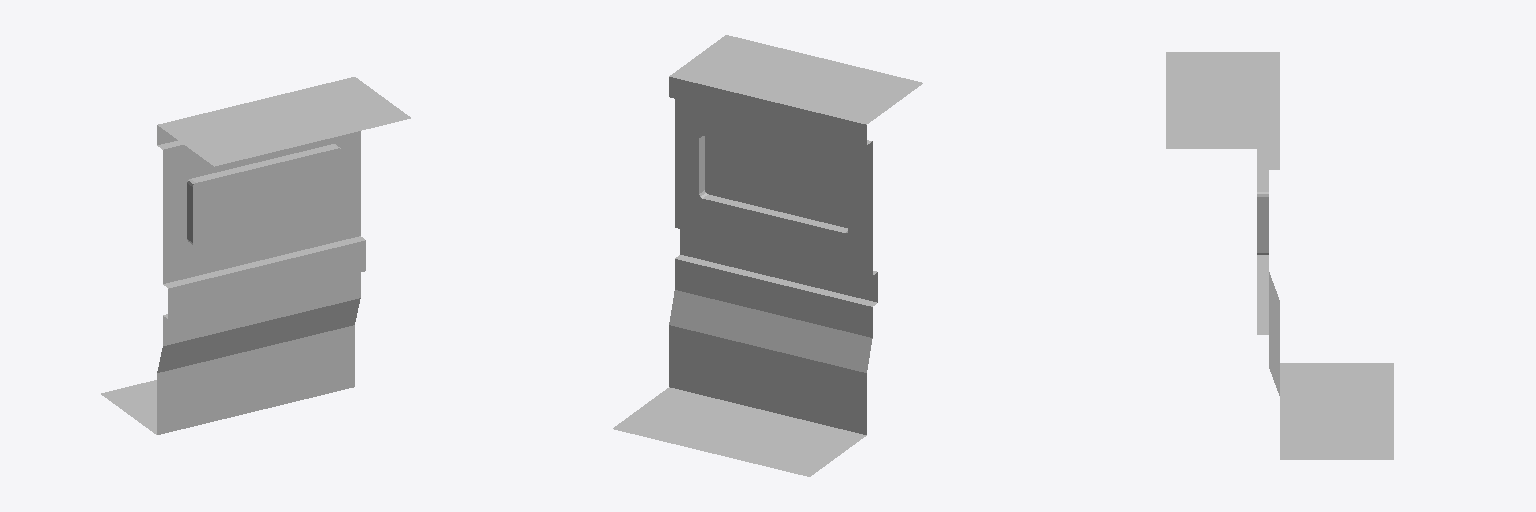
Rendered from structure-window-wide.obj.
The picture shows the model from 3 angles: view 1: azimuth 30°, elevation 25°; view 2: azimuth 150°, elevation 25°; view 3: azimuth 270°, elevation 25°; orthographic projection.
Parts seen in each view (by area): view 1: structure-window-wide; view 2: structure-window-wide; view 3: structure-window-wide.
Boxes of the visible parts, x1,y1,x2,y2 form: structure-window-wide: [101, 77, 410, 434]; structure-window-wide: [613, 35, 922, 476]; structure-window-wide: [1166, 52, 1393, 459].
Bounding box in the file's own units: 2 × 3 × 2.